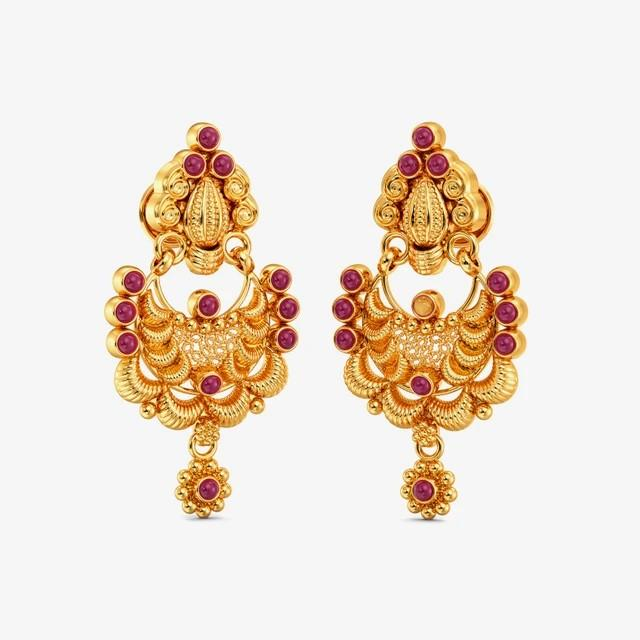missing gem: (413, 296, 433, 316)
